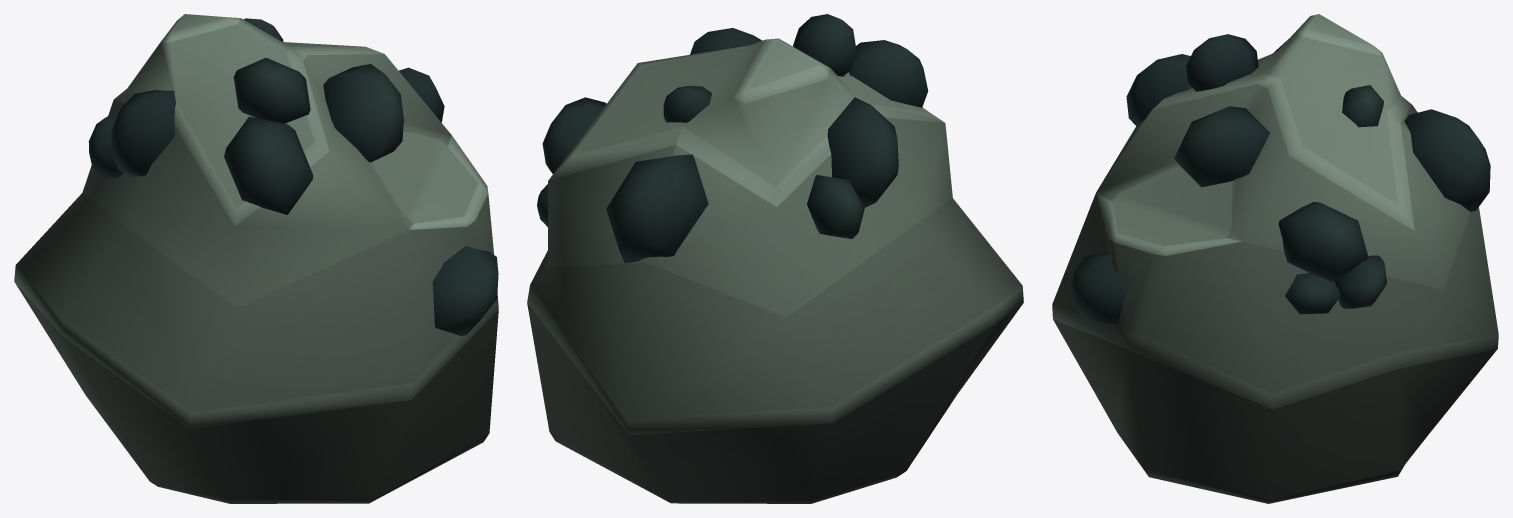
Rendered from ore_nuggets_coal_L.fbx.
The picture shows the model from 3 angles, left to right: view 1: azimuth 30°, elevation 25°; view 2: azimuth 150°, elevation 25°; view 3: azimuth 270°, elevation 25°; orthographic projection. The views are drawn at different scales.
Parts seen in each view (by area): view 1: ore_nuggets_coal_L; view 2: ore_nuggets_coal_L; view 3: ore_nuggets_coal_L.
Boxes of the visible parts, <box> form: ore_nuggets_coal_L: <box>14,14,498,503</box>; ore_nuggets_coal_L: <box>527,14,1023,503</box>; ore_nuggets_coal_L: <box>1052,14,1498,503</box>.
Size of the model in its own units: 211 by 220 by 204.
1 material, 1 textured.
